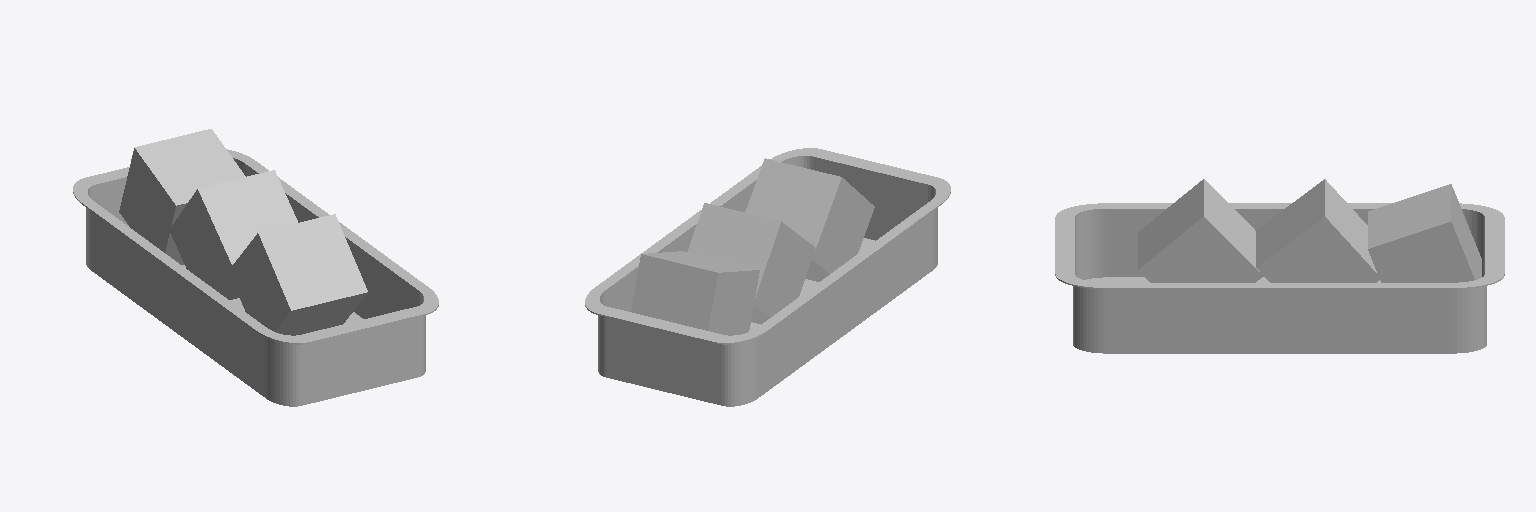
File: Weegbakje2MetStof.obj
3 renders of one model, left to right at view 1: azimuth 30°, elevation 25°; view 2: azimuth 150°, elevation 25°; view 3: azimuth 270°, elevation 25°, orthographic.
Visible parts, largest first — view 1: Mesh1_Group1_Model, Cube.002_Cube.003, Cube.001_Cube.002, Cube_Cube.001; view 2: Mesh1_Group1_Model, Cube.002_Cube.003, Cube_Cube.001, Cube.001_Cube.002; view 3: Mesh1_Group1_Model, Cube.002_Cube.003, Cube.001_Cube.002, Cube_Cube.001.
Boxes of the visible parts, x1=… form: Mesh1_Group1_Model: x1=73, y1=149, x2=438, y2=406; Cube.002_Cube.003: x1=229, y1=214, x2=367, y2=335; Cube.001_Cube.002: x1=169, y1=170, x2=297, y2=299; Cube_Cube.001: x1=119, y1=129, x2=245, y2=264; Mesh1_Group1_Model: x1=585, y1=148, x2=950, y2=406; Cube.002_Cube.003: x1=745, y1=158, x2=874, y2=281; Cube_Cube.001: x1=631, y1=251, x2=759, y2=335; Cube.001_Cube.002: x1=688, y1=203, x2=815, y2=324; Mesh1_Group1_Model: x1=1055, y1=203, x2=1504, y2=353; Cube.002_Cube.003: x1=1138, y1=179, x2=1262, y2=282; Cube.001_Cube.002: x1=1256, y1=179, x2=1379, y2=282; Cube_Cube.001: x1=1368, y1=184, x2=1481, y2=282.
Size of the model in its own units: 4.5 by 2.97 by 10.07.